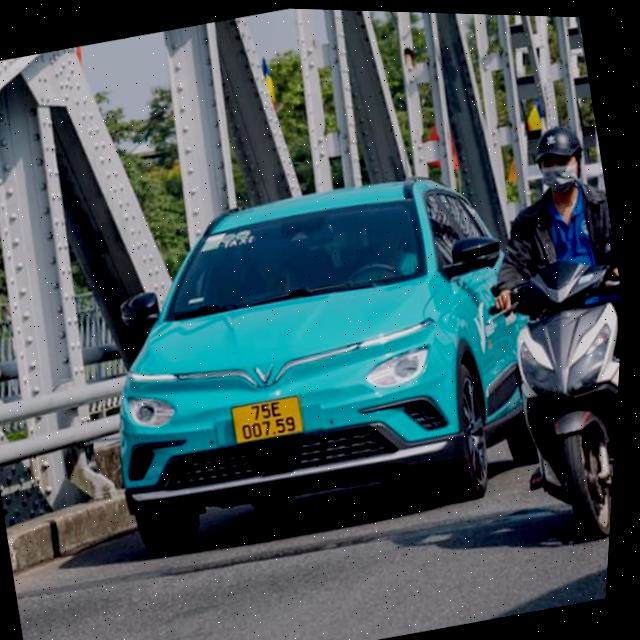car: (64, 144, 575, 585)
motorcycle: (469, 233, 627, 563)
plate: (221, 385, 313, 453)
